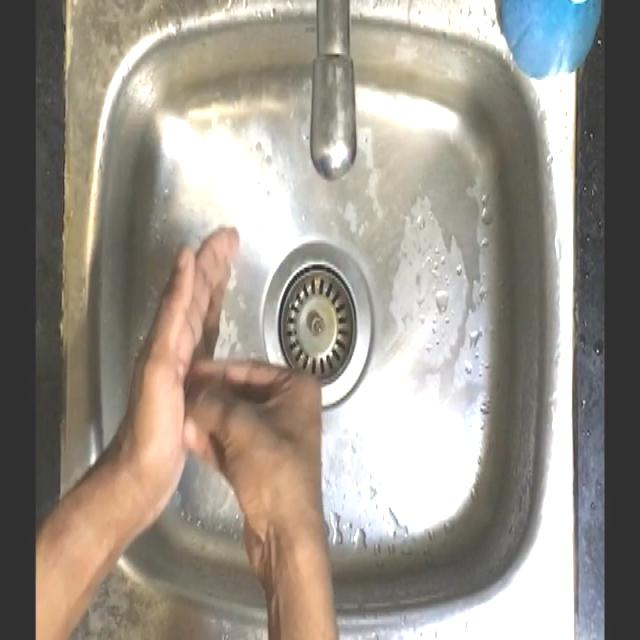step_6: (125, 215, 333, 544)
